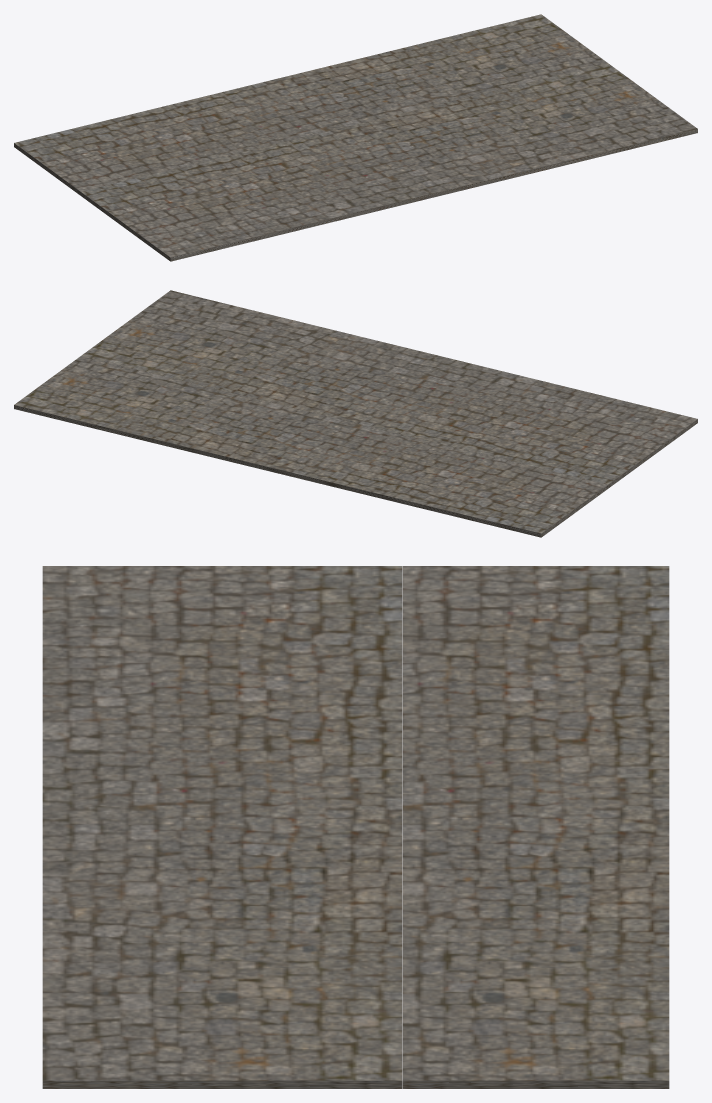
The picture shows the model from 3 angles, top to bottom: view 1: azimuth 30°, elevation 25°; view 2: azimuth 150°, elevation 25°; view 3: azimuth 270°, elevation 25°; orthographic projection. The views are drawn at different scales.
Visible parts, largest first — view 1: Base; view 2: Base; view 3: Base.
Boxes of the visible parts, box(x1,y1,x2,y2) form: Base: box(14, 14, 697, 261); Base: box(14, 290, 697, 537); Base: box(42, 566, 669, 1088).
Size of the model in its own units: 337 by 2.51 by 173.
